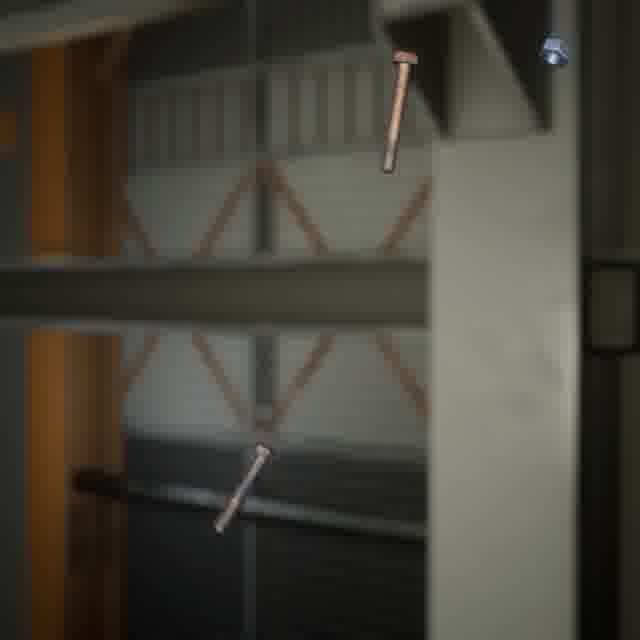bolt: (208, 437, 282, 538), (376, 47, 422, 177)
nut: (533, 33, 576, 71)
